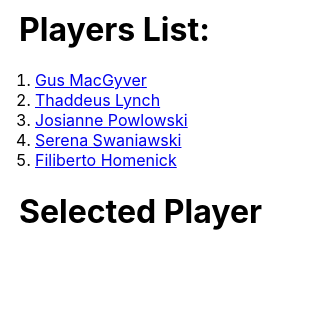
should fetch single player data from backend when link is clicked
Click the link "Gus MacGyver" at [91, 80], box [35,70,147,90]
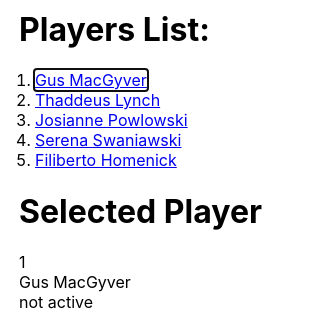
expect the text "not active" is shown: met, box [19,292,93,312]
